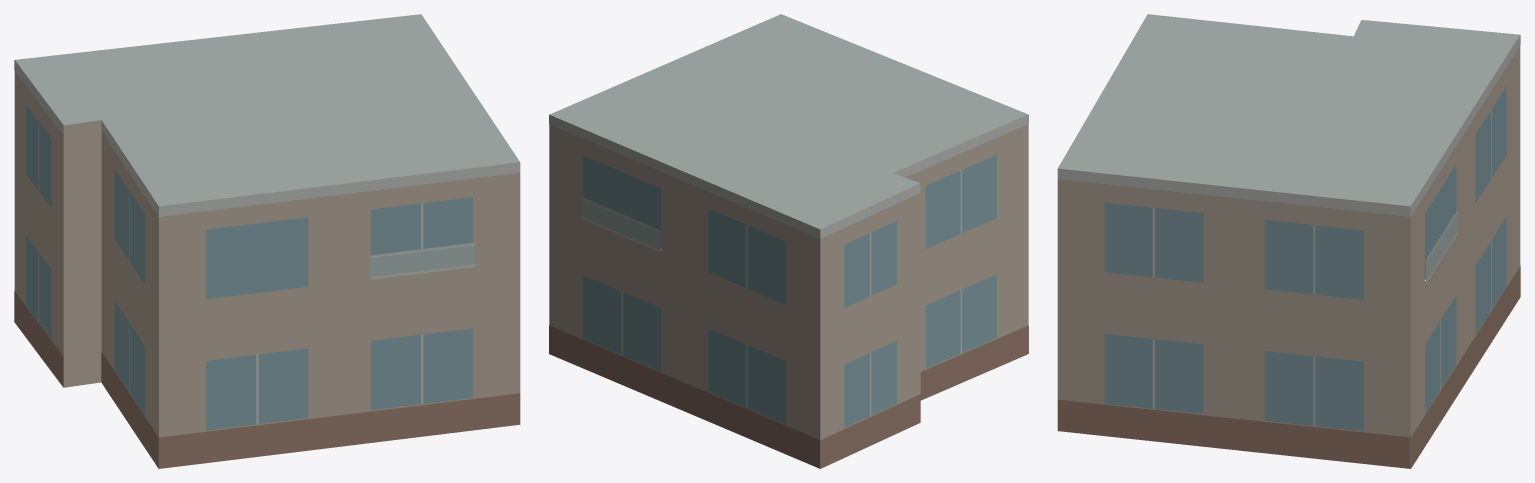
Rendered from survey-upis-32909987.glb.
3 renders of one model, left to right at view 1: azimuth 30°, elevation 25°; view 2: azimuth 150°, elevation 25°; view 3: azimuth 270°, elevation 25°, orthographic. The views are drawn at different scales.
Parts seen in each view (by area): view 1: survey-upis-32909987.tmp; view 2: survey-upis-32909987.tmp; view 3: survey-upis-32909987.tmp.
Boxes of the visible parts, <box> form: survey-upis-32909987.tmp: <box>14,14,520,468</box>; survey-upis-32909987.tmp: <box>549,14,1028,468</box>; survey-upis-32909987.tmp: <box>1057,14,1520,468</box>.
Size of the model in its own units: 9.6 by 6.1 by 9.76.
